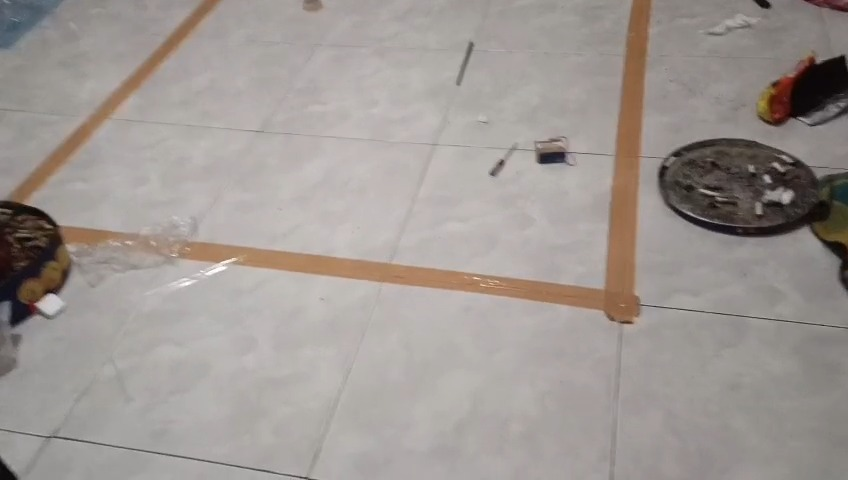floor marking: (186, 0, 649, 322), (12, 0, 220, 200), (63, 227, 128, 242)
